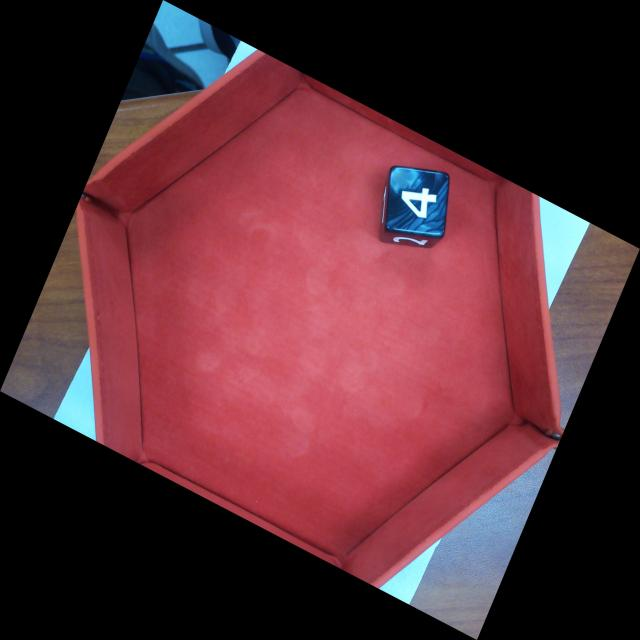dice: (388, 167, 450, 234)
